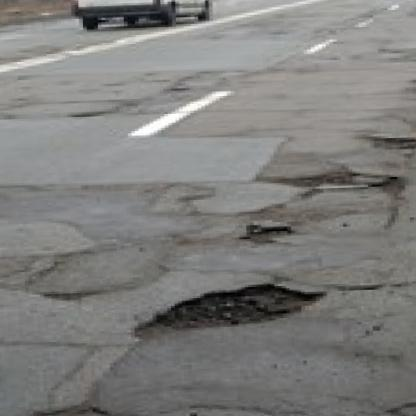pothole: (129, 282, 324, 339), (266, 162, 412, 202), (235, 221, 299, 246), (21, 402, 104, 416), (358, 132, 416, 150)
